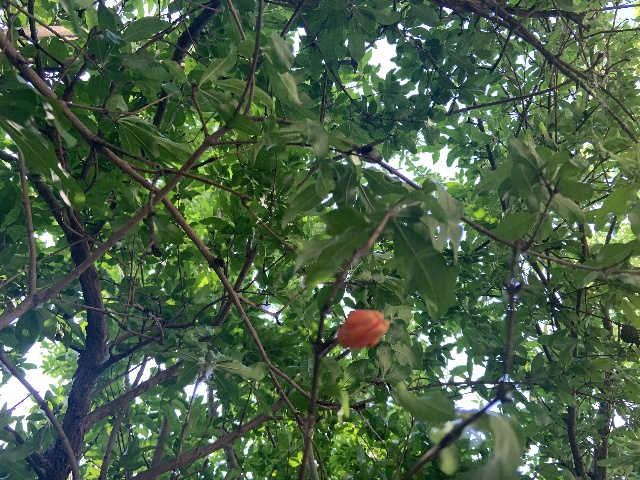bud: (336, 309, 389, 349)
